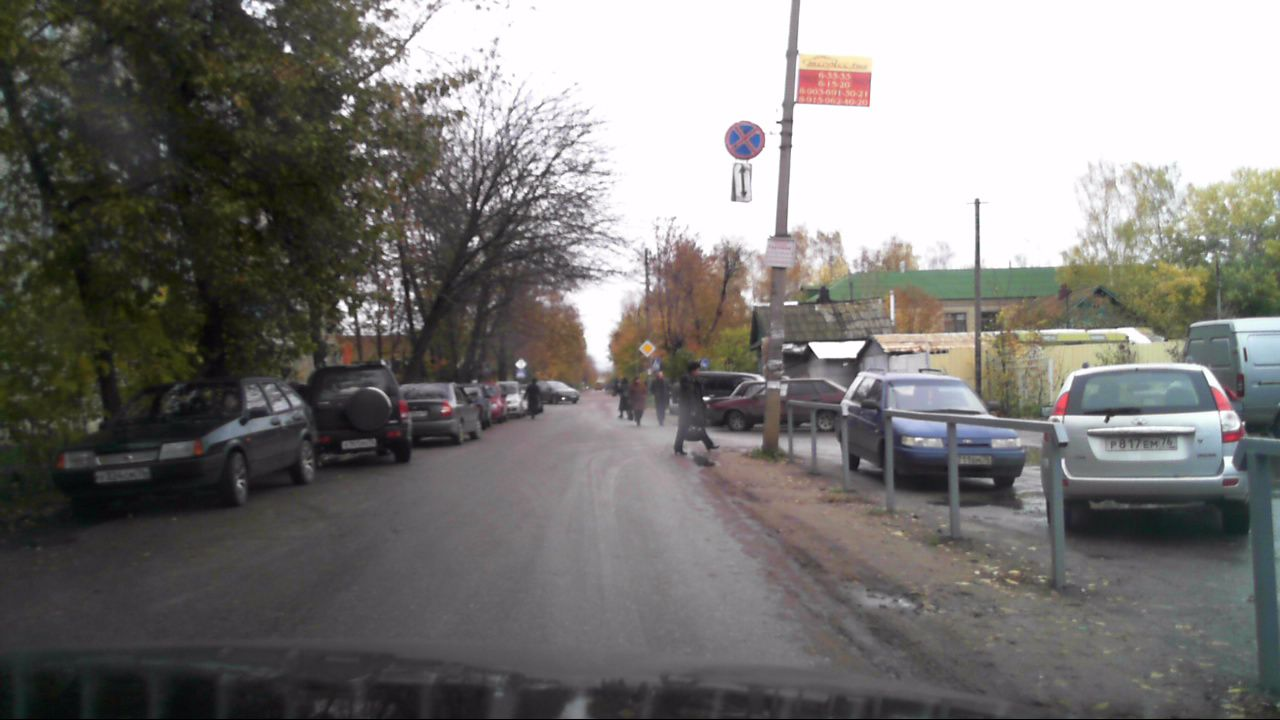No Parking: (723, 120, 765, 162)
